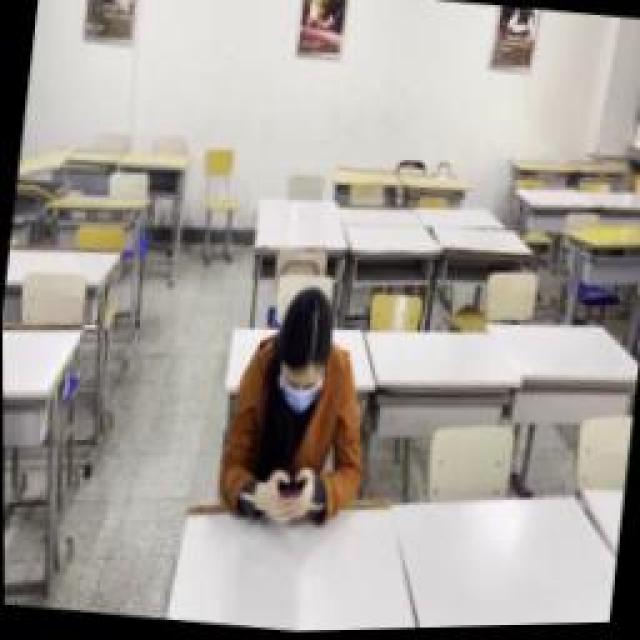phone: (212, 282, 380, 540)
